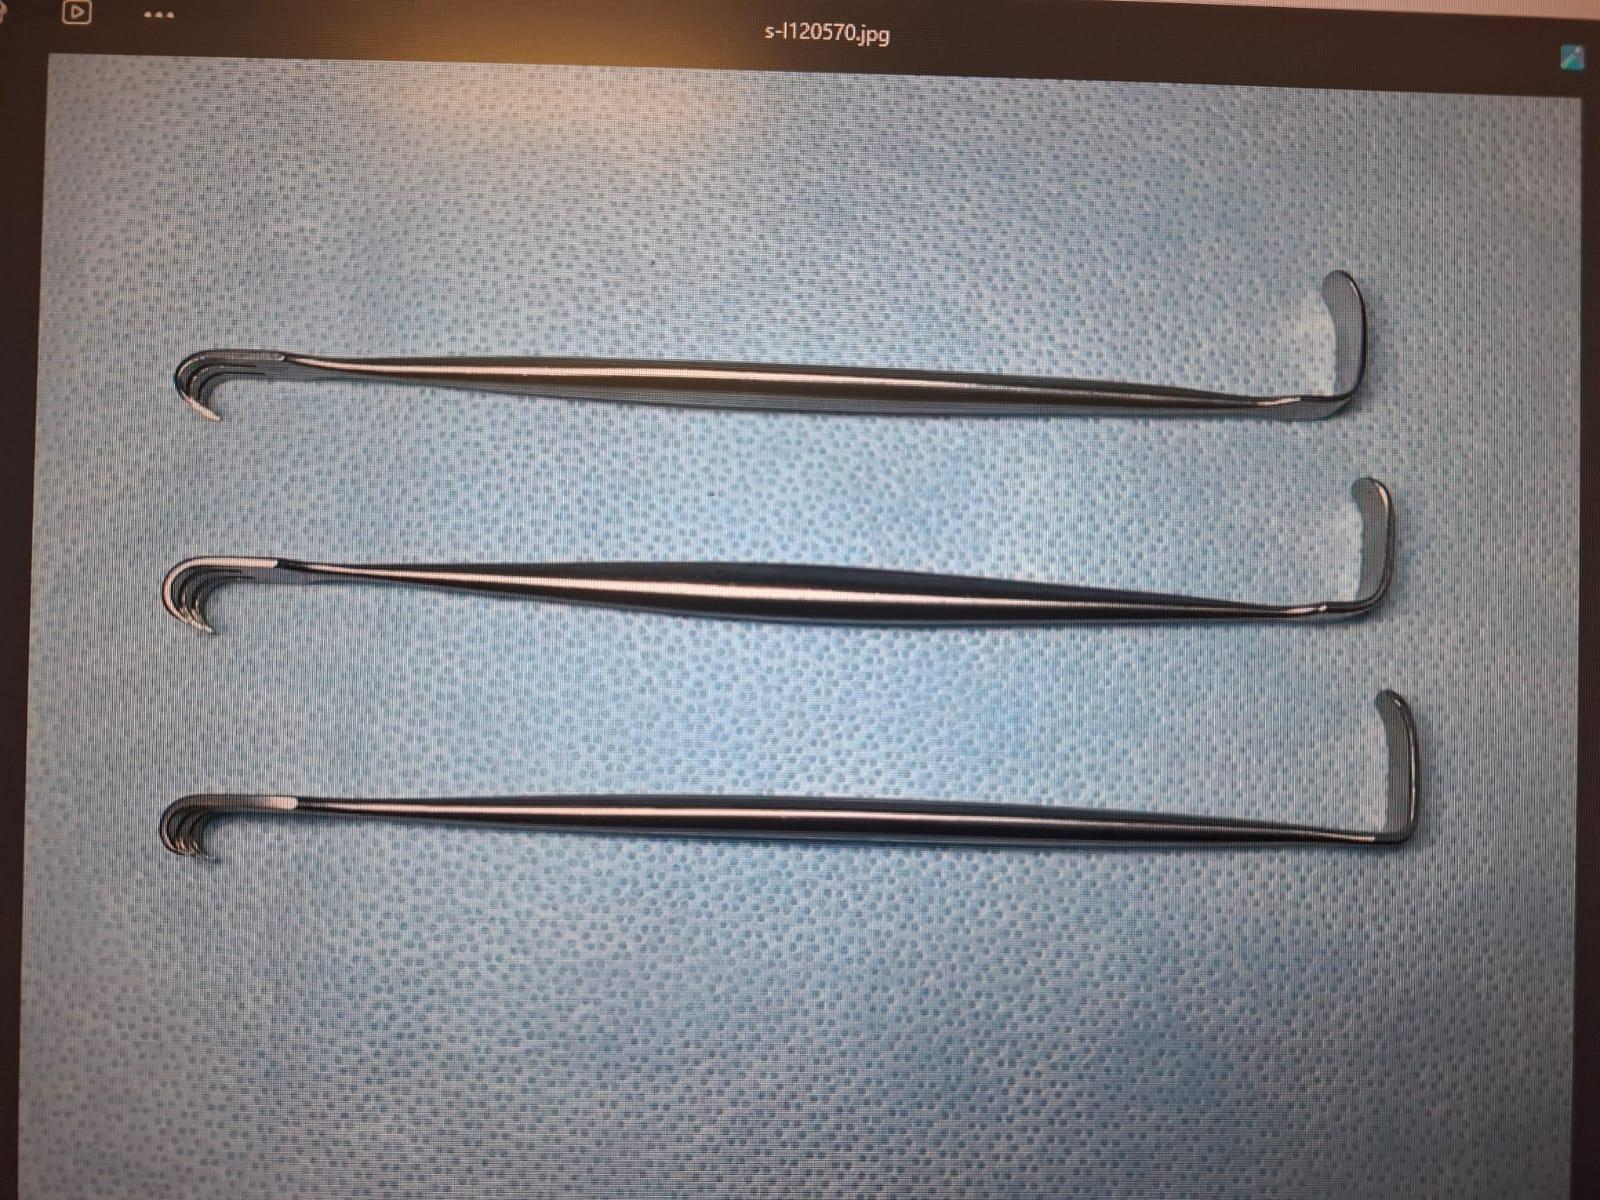Senn Retractor: (158, 672, 1456, 894), (130, 460, 1426, 668), (158, 256, 1400, 434)
